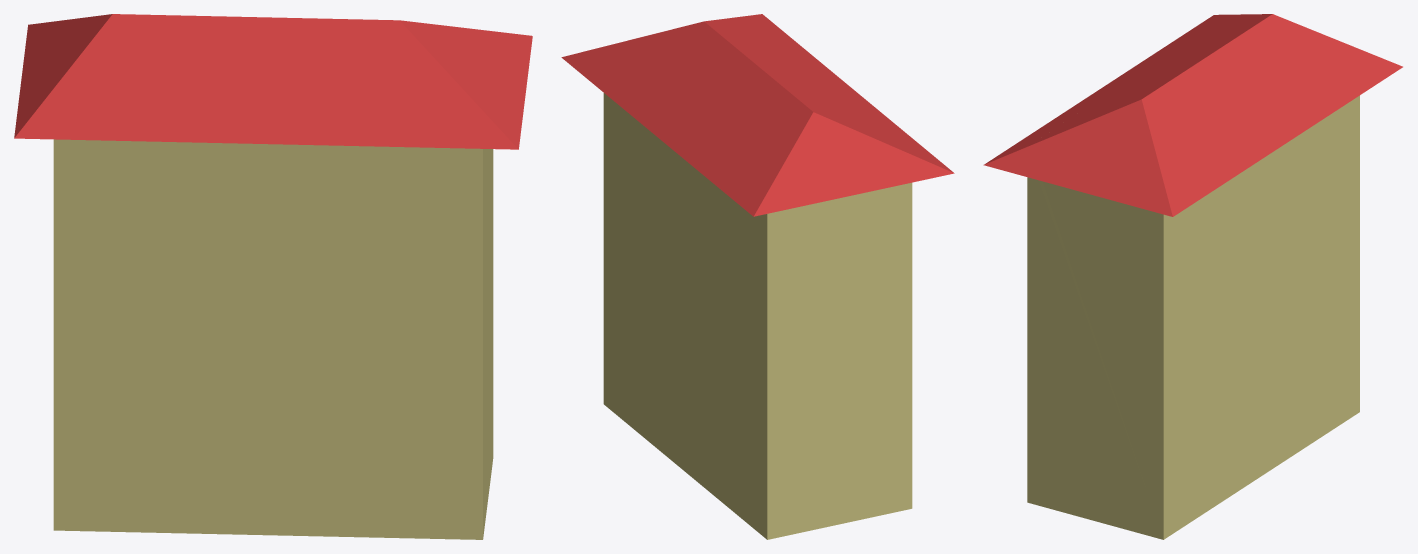
The picture shows the model from 3 angles, left to right: view 1: azimuth 30°, elevation 25°; view 2: azimuth 150°, elevation 25°; view 3: azimuth 270°, elevation 25°; orthographic projection. The views are drawn at different scales.
Visible parts, largest first — view 1: group_5, group_3, group_4; view 2: group_5, group_3, group_4; view 3: group_5, group_3, group_4.
Part boxes in pixels (x1,y1,x2,y2): group_5: (53,139,493,539); group_3: (14,14,532,149); group_4: (14,25,518,149); group_5: (603,93,912,539); group_3: (561,14,953,216); group_4: (747,14,954,216); group_5: (1027,95,1359,539); group_3: (983,14,1402,216); group_4: (984,14,1236,164).
Bounding box in the file's own units: 7.57 × 6.65 × 6.93.
